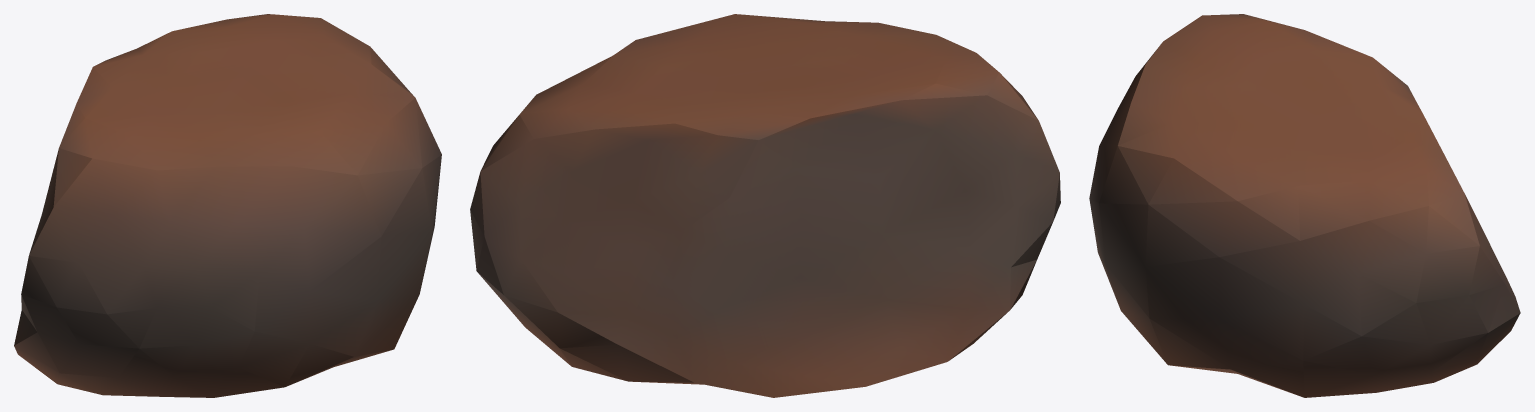
Rendered from rock_small_06.glb.
The picture shows the model from 3 angles, left to right: view 1: azimuth 30°, elevation 25°; view 2: azimuth 150°, elevation 25°; view 3: azimuth 270°, elevation 25°; orthographic projection. The views are drawn at different scales.
Parts seen in each view (by area): view 1: rock; view 2: rock; view 3: rock.
Part boxes in pixels (<box>): rock: <box>14,14,441,397</box>; rock: <box>470,14,1060,397</box>; rock: <box>1089,14,1520,397</box>.
Bounding box in the file's own units: 0.75 × 0.3985 × 0.6651.
